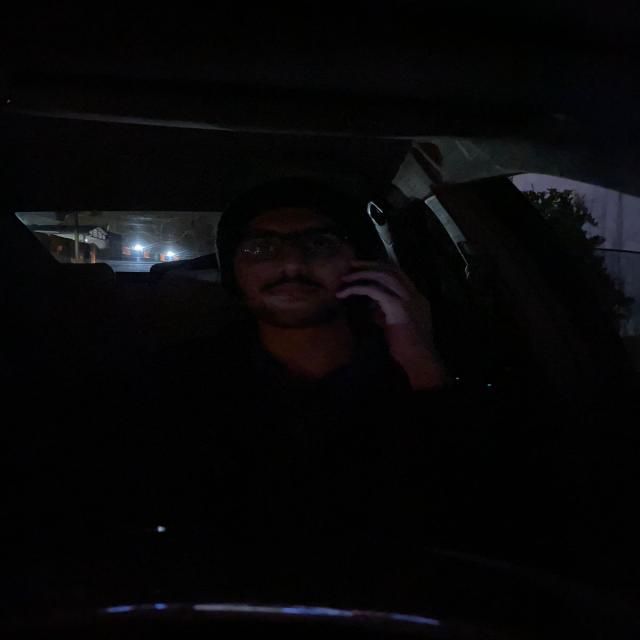mobile: (352, 250, 392, 346)
person: (224, 191, 355, 322)
